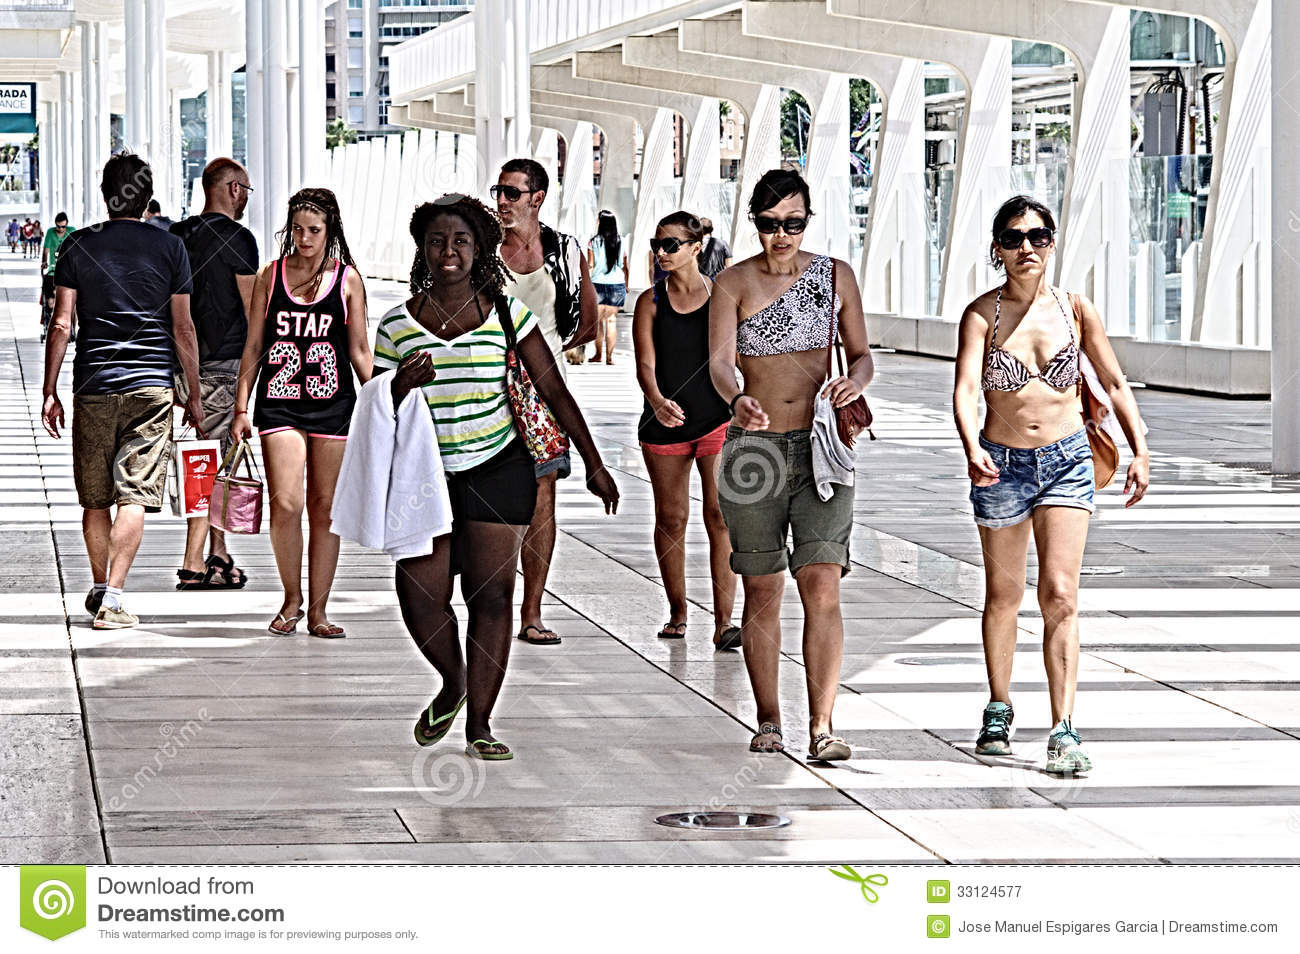person: (361, 195, 620, 769), (946, 179, 1163, 809), (701, 165, 890, 785), (38, 118, 200, 664), (622, 182, 794, 666), (233, 180, 379, 658), (486, 144, 619, 662), (150, 145, 283, 651)
